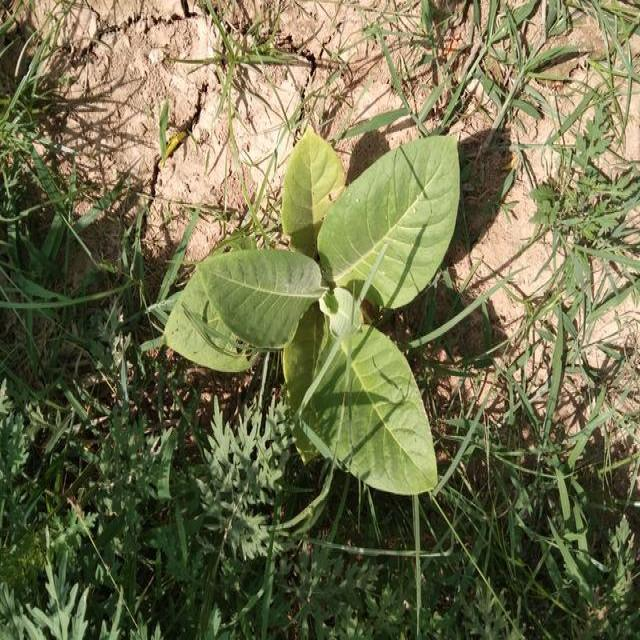crop: (156, 121, 458, 496)
